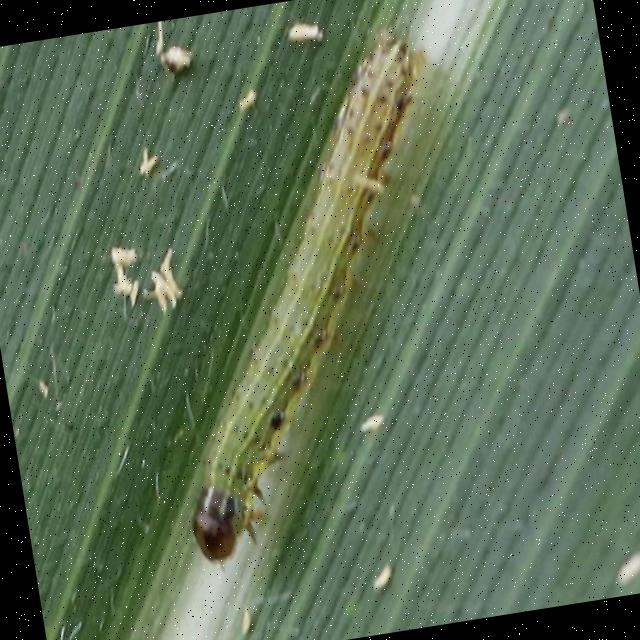worm: (118, 22, 496, 575), (187, 478, 257, 575)
